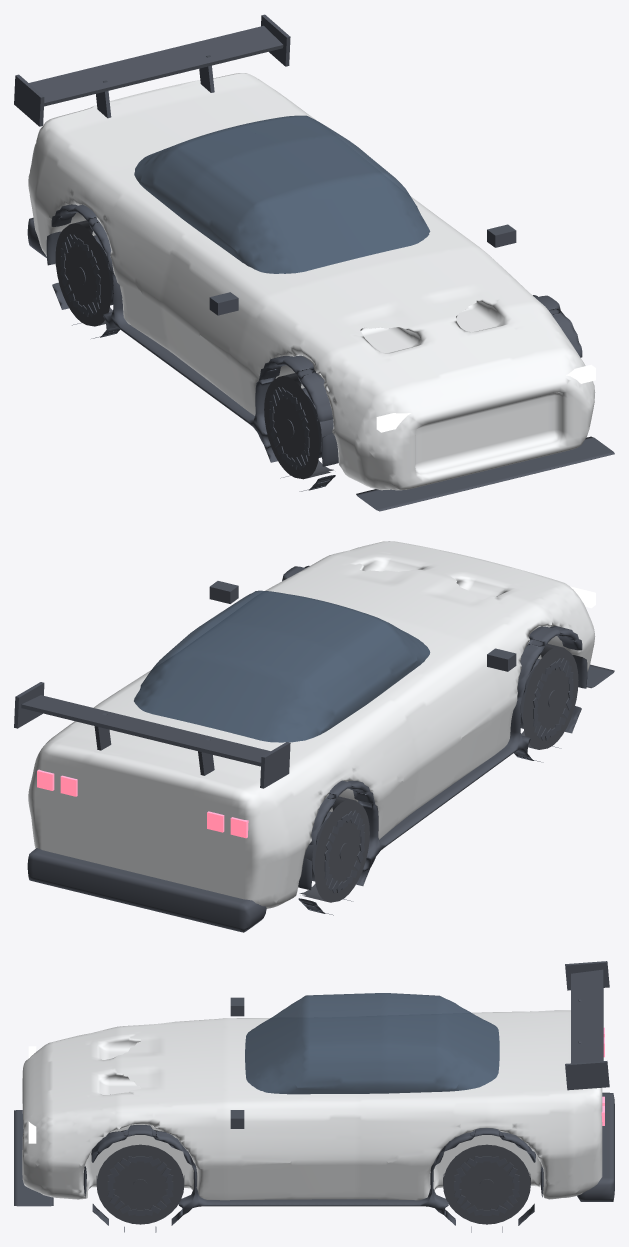
Rendered from kuronuma.glb.
The picture shows the model from 3 angles, top to bottom: view 1: azimuth 30°, elevation 25°; view 2: azimuth 150°, elevation 25°; view 3: azimuth 270°, elevation 25°; orthographic projection. The views are drawn at different scales.
Parts seen in each view (by area): view 1: Bodywork, CanopyGlass, CarbonAero (×3), TireRubber, ForgedRim, HeadlightLED; view 2: Bodywork, CanopyGlass, CarbonAero (×3), TireRubber, ForgedRim, TaillightLED; view 3: Bodywork, CanopyGlass, CarbonAero (×3), TireRubber, ForgedRim.
Boxes of the visible parts, left/top/right/bottom form: Bodywork: left=28, top=73, right=595, bottom=490; CanopyGlass: left=134, top=115, right=430, bottom=273; CarbonAero (×3): left=14, top=14, right=614, bottom=511; TireRubber: left=55, top=220, right=333, bottom=479; ForgedRim: left=60, top=234, right=333, bottom=469; HeadlightLED: left=376, top=364, right=595, bottom=432; Bodywork: left=28, top=541, right=595, bottom=908; CanopyGlass: left=134, top=590, right=430, bottom=742; CarbonAero (×3): left=14, top=565, right=614, bottom=932; TireRubber: left=299, top=643, right=578, bottom=902; ForgedRim: left=304, top=658, right=573, bottom=893; TaillightLED: left=37, top=769, right=248, bottom=838; Bodywork: left=22, top=1010, right=602, bottom=1200; CanopyGlass: left=245, top=993, right=499, bottom=1094; CarbonAero (×3): left=14, top=961, right=614, bottom=1232; TireRubber: left=96, top=1144, right=530, bottom=1224; ForgedRim: left=107, top=1156, right=519, bottom=1215.
Bounding box in the file's own units: 2.28 × 1.48 × 4.79.
